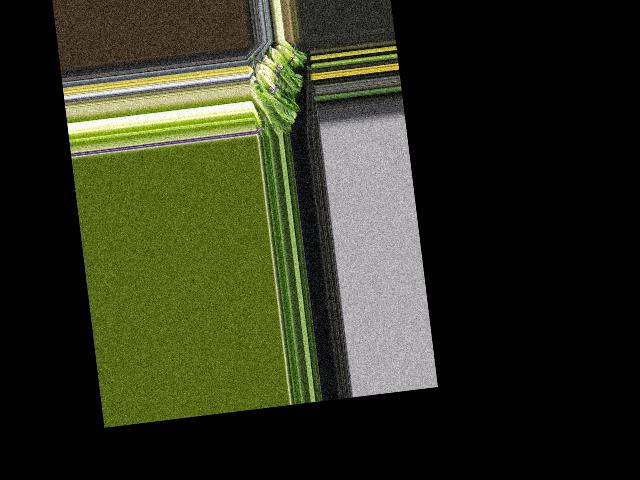lettuce: (252, 79, 296, 136)
